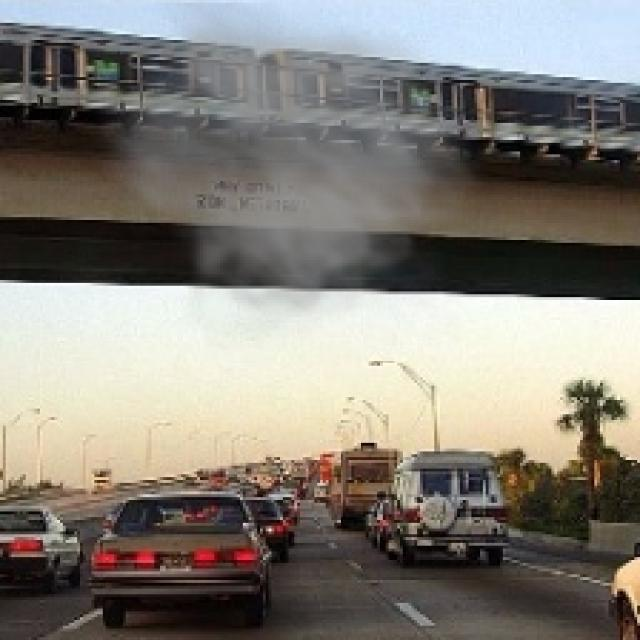smoke: (86, 3, 494, 354)
